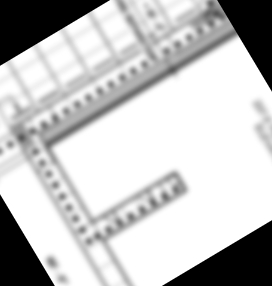door: (136, 188, 155, 207), (164, 173, 182, 191), (102, 209, 120, 226)
